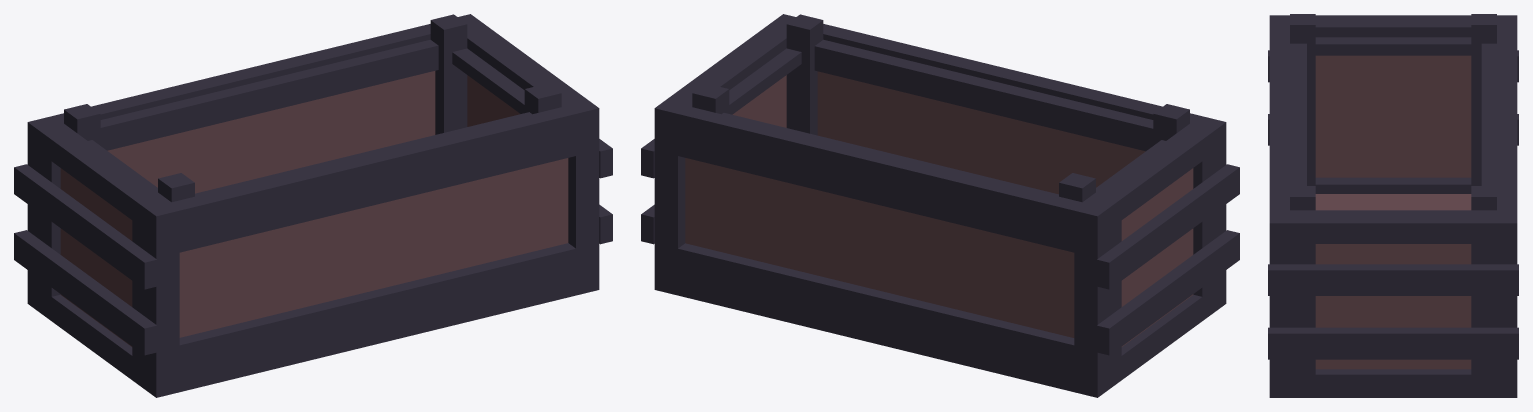
3 renders of one model, left to right at view 1: azimuth 30°, elevation 25°; view 2: azimuth 150°, elevation 25°; view 3: azimuth 270°, elevation 25°, orthographic. The views are drawn at different scales.
Visible parts, largest first — view 1: box_02; view 2: box_02; view 3: box_02.
Boxes of the visible parts, x1,y1,x2,y2 form: box_02: (14, 14, 612, 397); box_02: (641, 14, 1239, 397); box_02: (1268, 14, 1518, 397).
Size of the model in its own units: 134 by 53.38 by 64.51.
